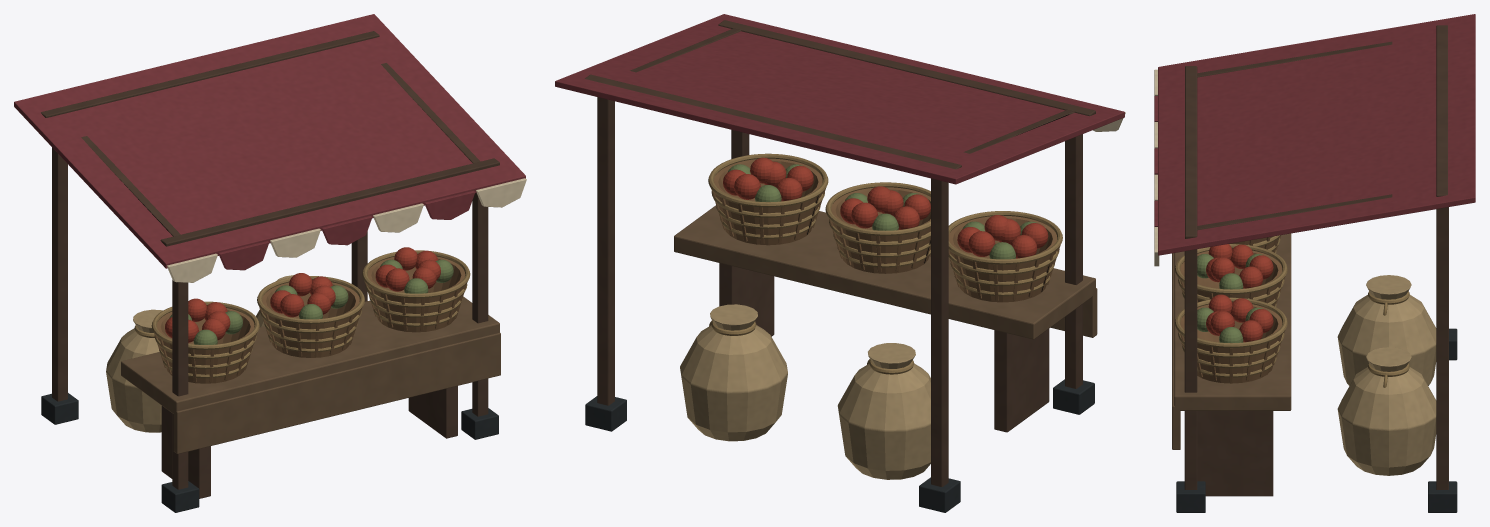
File: Produce_Stall.fbx
3 views of the same model, side by side, from view 1: azimuth 30°, elevation 25°; view 2: azimuth 150°, elevation 25°; view 3: azimuth 270°, elevation 25° (orthographic). The views are drawn at different scales.
Parts seen in each view (by area): view 1: Produce_Stall.001; view 2: Produce_Stall.001; view 3: Produce_Stall.001.
Part boxes in pixels (left/top/right/bottom): Produce_Stall.001: left=14, top=14, right=526, bottom=512; Produce_Stall.001: left=555, top=14, right=1125, bottom=512; Produce_Stall.001: left=1154, top=14, right=1475, bottom=512.
Size of the model in its own units: 3.56 by 2.94 by 2.63.
